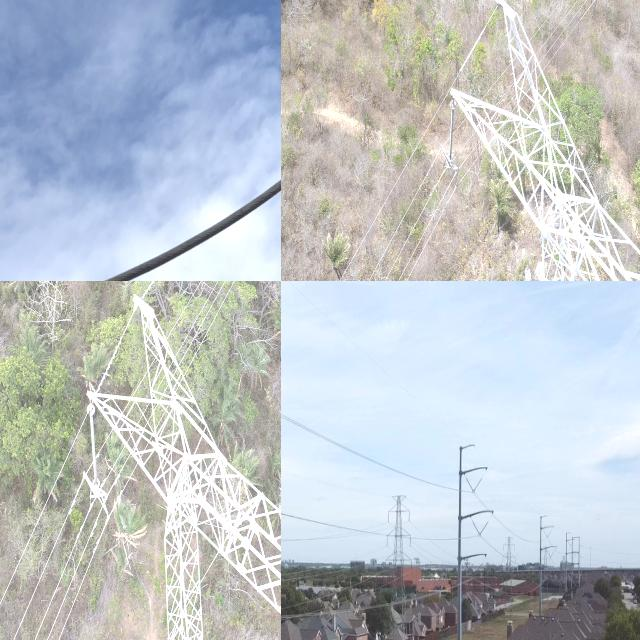杆塔: (72, 281, 281, 640), (452, 0, 640, 281), (383, 490, 414, 640), (500, 530, 517, 622)
正常电缆: (336, 3, 500, 281), (57, 154, 281, 281), (365, 143, 443, 281), (383, 169, 447, 281), (395, 187, 449, 281), (405, 189, 455, 281), (539, 0, 601, 70)
正常绝缘子: (86, 403, 101, 489), (446, 88, 457, 188), (386, 509, 390, 527), (407, 508, 411, 525), (385, 532, 389, 548), (408, 534, 412, 550), (409, 558, 413, 574)
